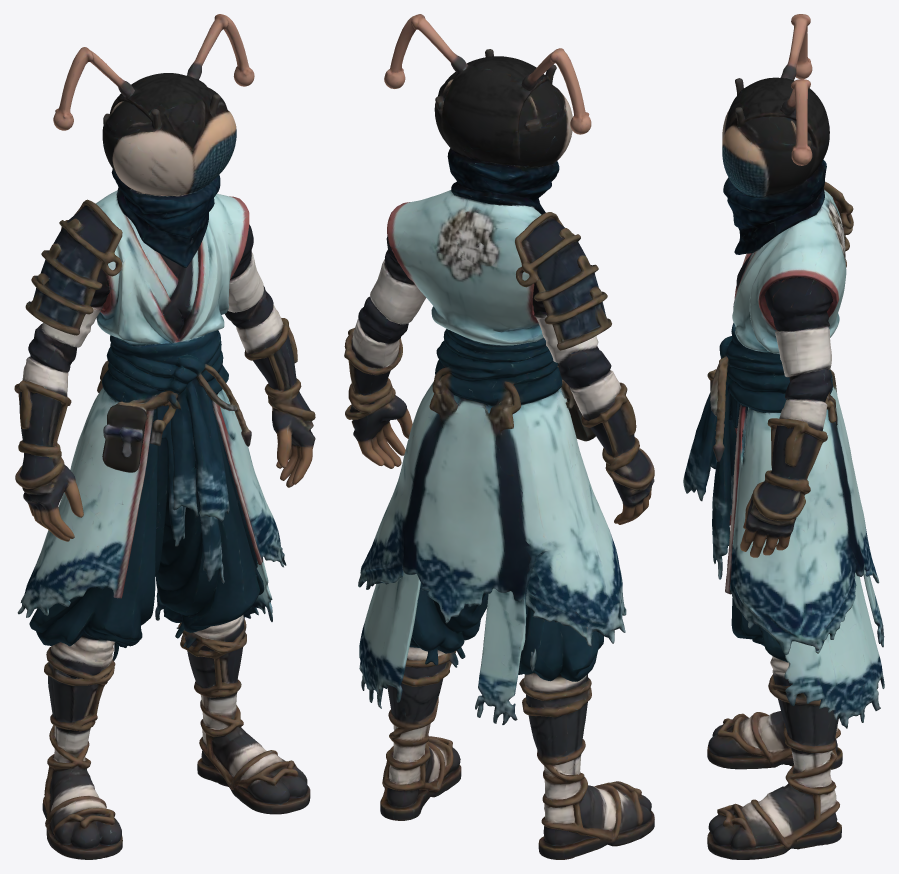
Rendered from rebel_1555_static_source_trellis2_v1.glb.
The picture shows the model from 3 angles, left to right: view 1: azimuth 30°, elevation 25°; view 2: azimuth 150°, elevation 25°; view 3: azimuth 270°, elevation 25°; orthographic projection. The views are drawn at different scales.
Parts seen in each view (by area): view 1: world; view 2: world; view 3: world.
Boxes of the visible parts, x1,y1,x2,y2 form: world: (14, 14, 315, 859); world: (344, 14, 654, 859); world: (683, 14, 884, 859).
Size of the model in its own units: 0.3987 by 1 by 0.242.
Materials: 1 (1 with a texture image).
